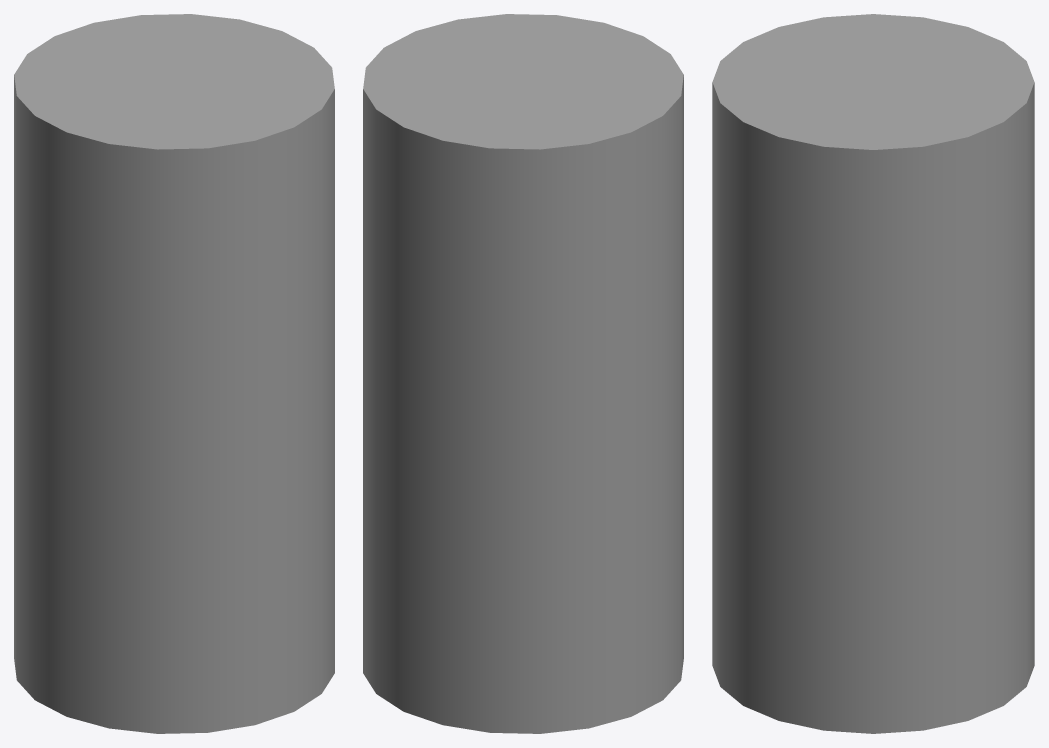
3 renders of one model, left to right at view 1: azimuth 30°, elevation 25°; view 2: azimuth 150°, elevation 25°; view 3: azimuth 270°, elevation 25°, orthographic.
Parts seen in each view (by area): view 1: Lit; view 2: Lit; view 3: Lit.
Part boxes in pixels (x1,y1,x2,y2): Lit: (14, 14, 334, 733); Lit: (363, 14, 683, 733); Lit: (712, 14, 1034, 733).
Bounding box in the file's own units: 1 × 2 × 1.
Materials: 1 (1 with a texture image).
